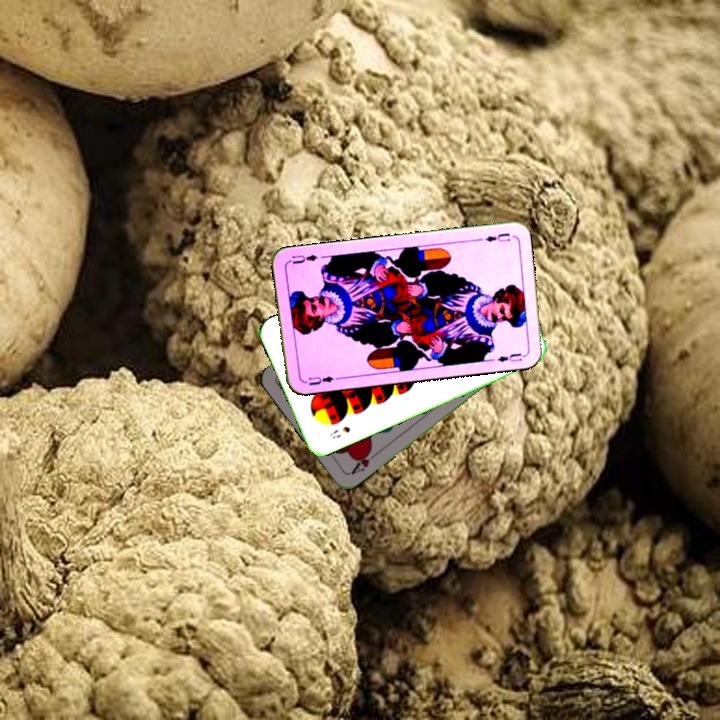EU: (300, 372, 336, 388), (481, 229, 512, 245)
HA: (347, 445, 380, 477)
S8: (326, 422, 353, 442)
